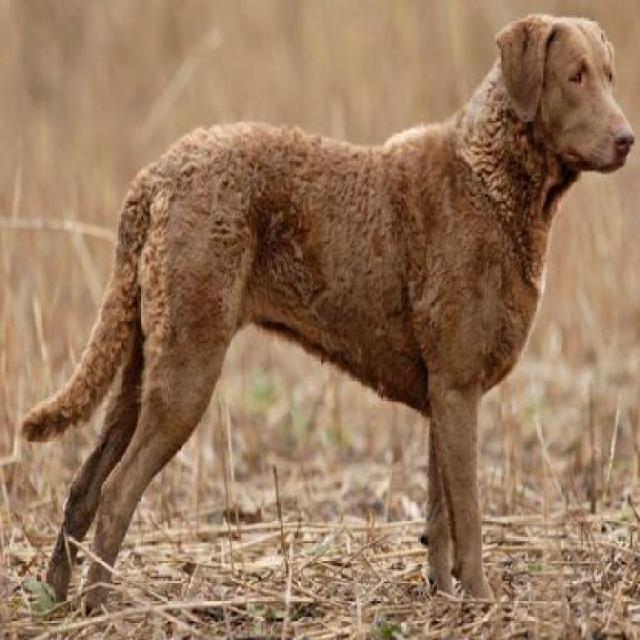Dog: (21, 0, 638, 617)
